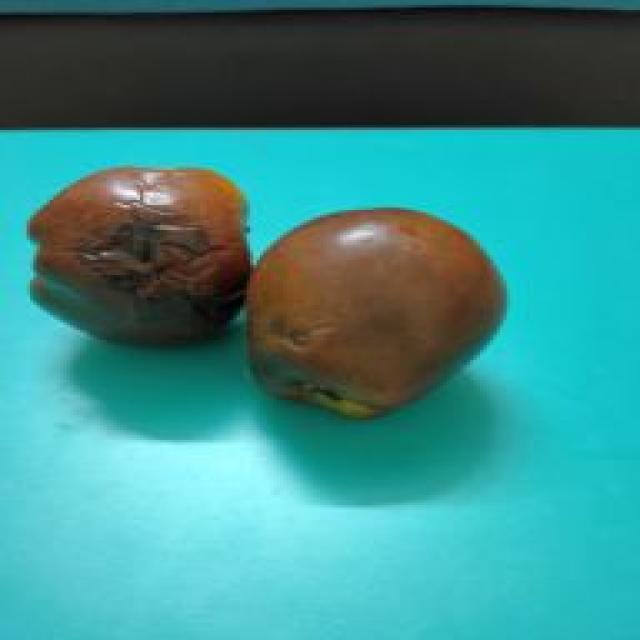Bad_Apple: (30, 170, 243, 342)
